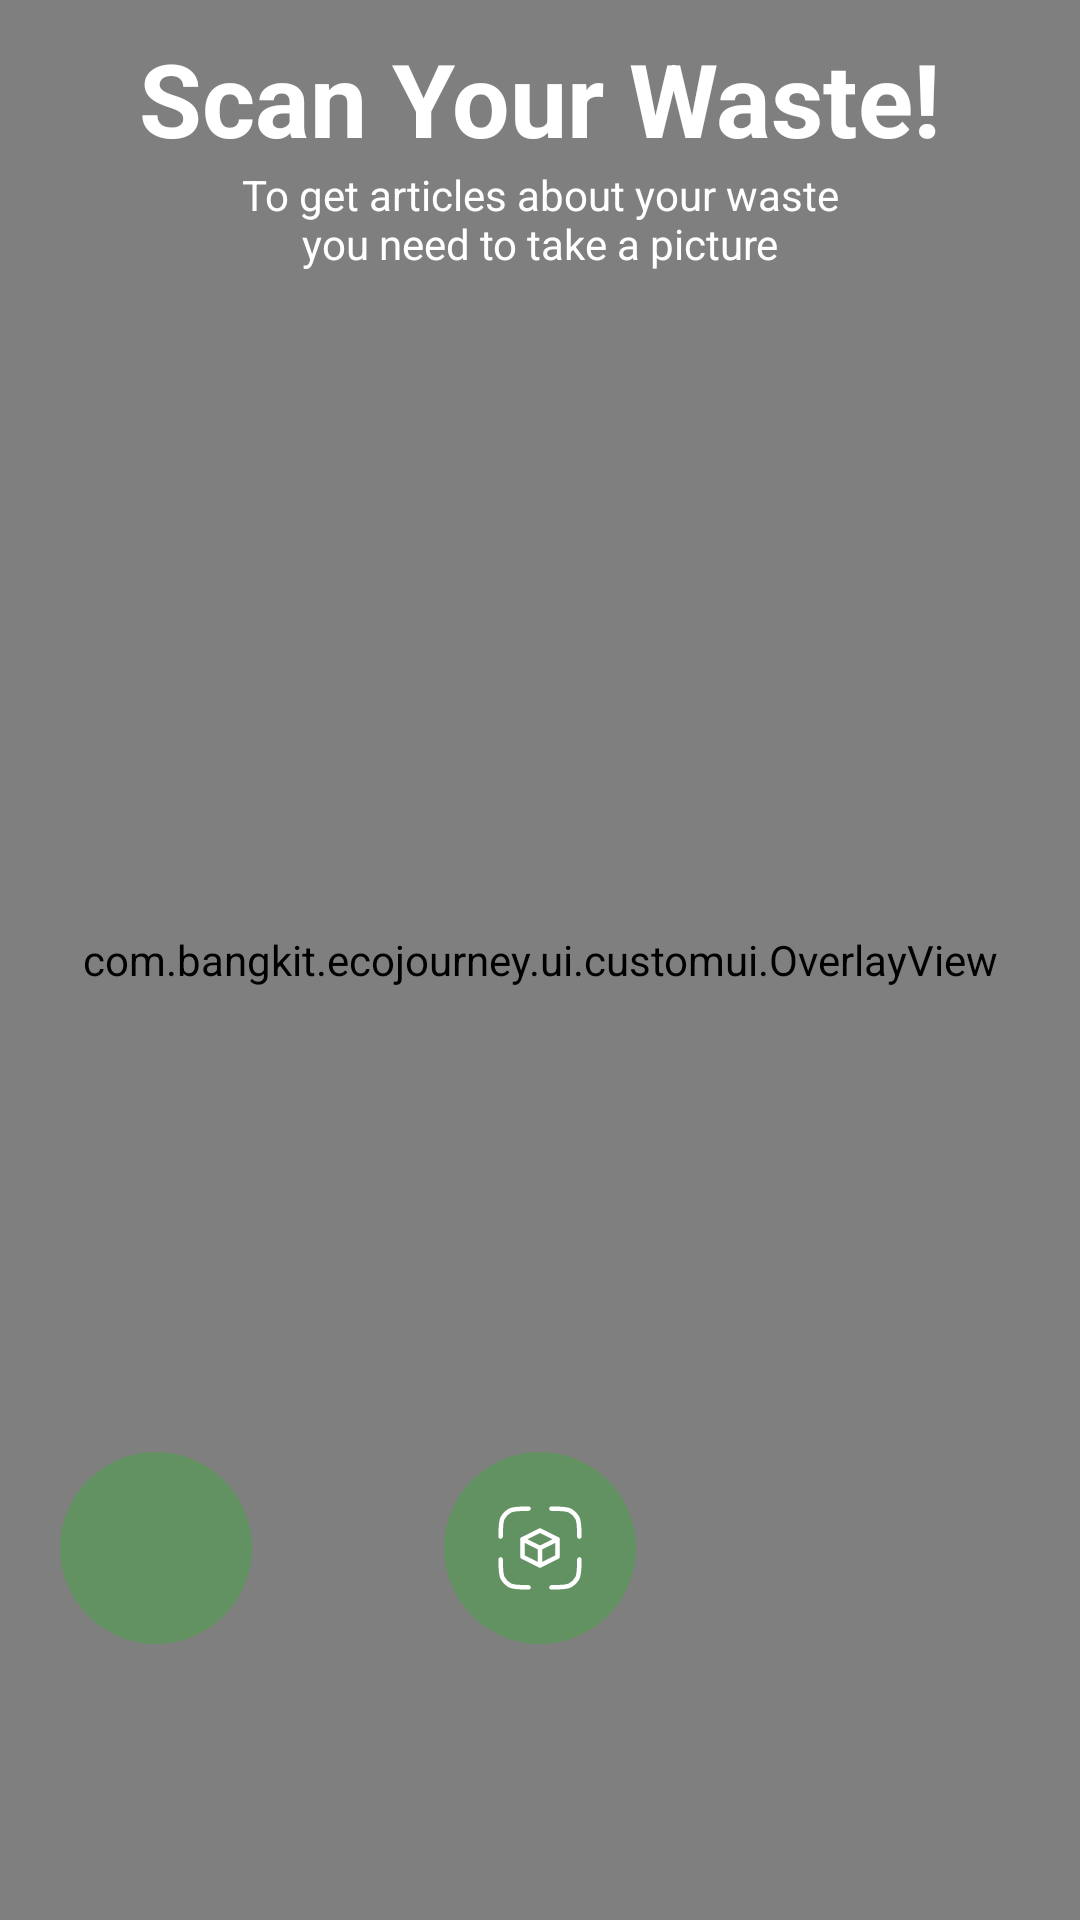

Named icons in this screenshot (1080×1920) and their centers, (x,y):
capture: (540,1548)
